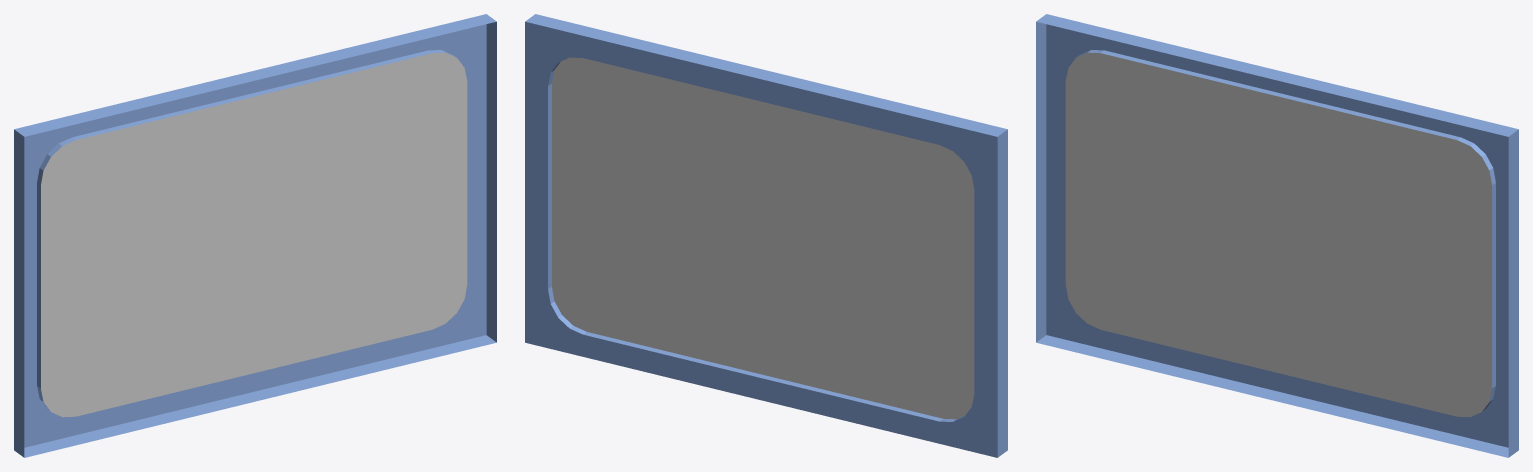
Rendered from Television.fbx.
3 renders of one model, left to right at view 1: azimuth 30°, elevation 25°; view 2: azimuth 150°, elevation 25°; view 3: azimuth 330°, elevation 25°, orthographic.
Parts seen in each view (by area): view 1: Cube.002; view 2: Cube.002; view 3: Cube.002.
Boxes of the visible parts, x1,y1,x2,y2 form: Cube.002: (14, 14, 496, 457); Cube.002: (525, 14, 1007, 457); Cube.002: (1036, 14, 1518, 457).
Size of the model in its own units: 366 by 238 by 14.04.
